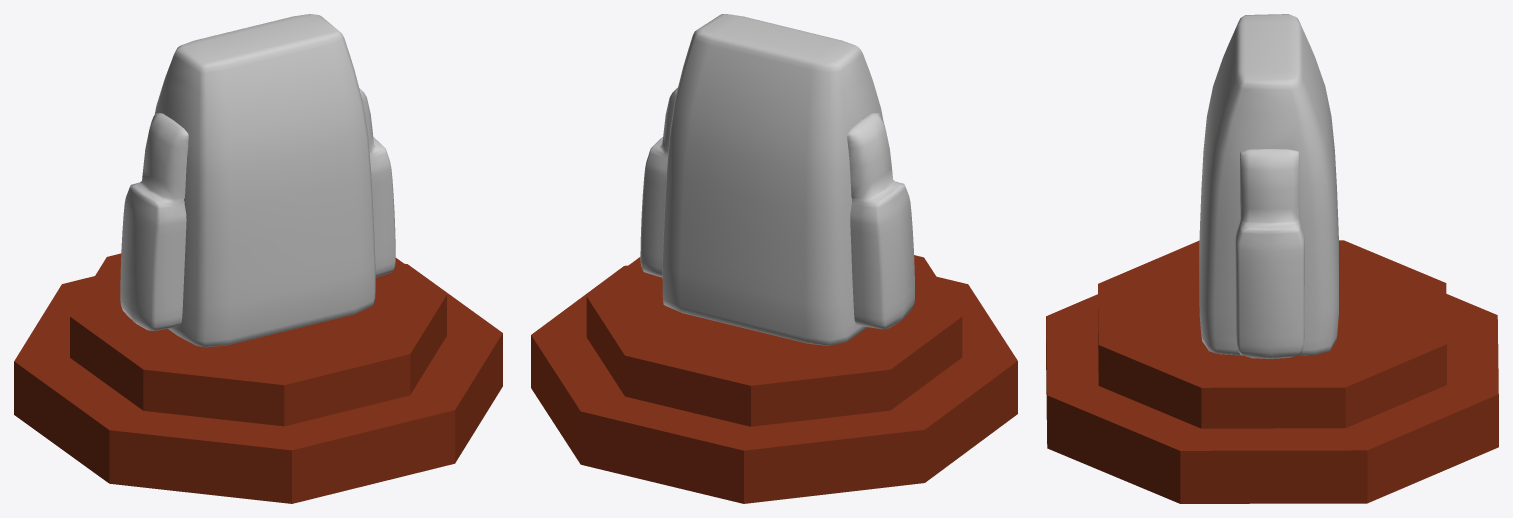
File: o_macchinaLumen_018.fbx
The picture shows the model from 3 angles, left to right: view 1: azimuth 30°, elevation 25°; view 2: azimuth 150°, elevation 25°; view 3: azimuth 270°, elevation 25°; orthographic projection.
Visible parts, largest first — view 1: Piattaforma, macchinaLumen; view 2: Piattaforma, macchinaLumen; view 3: Piattaforma, macchinaLumen.
Part boxes in pixels (bbox=[...]): Piattaforma: bbox=[14, 253, 502, 503]; macchinaLumen: bbox=[120, 14, 395, 347]; Piattaforma: bbox=[531, 255, 1017, 503]; macchinaLumen: bbox=[640, 14, 914, 345]; Piattaforma: bbox=[1046, 240, 1498, 503]; macchinaLumen: bbox=[1199, 14, 1338, 358].
Bounding box in the file's own units: 824 × 725 × 824.
